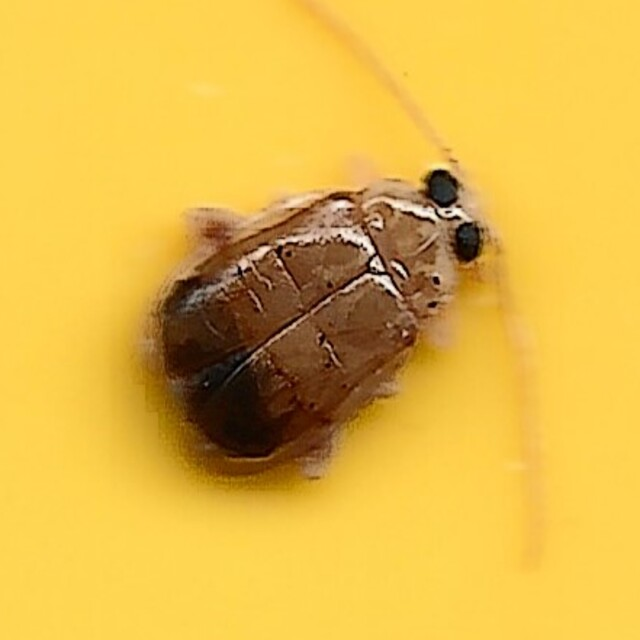Coleoptera: (145, 164, 495, 476)
